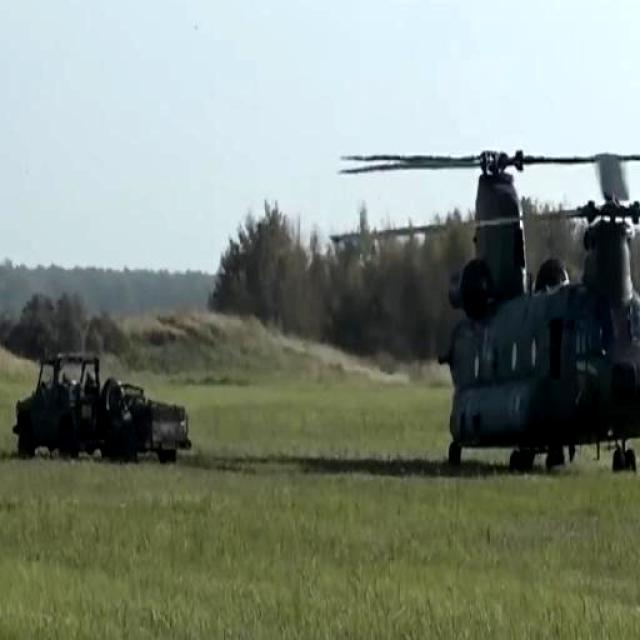drone: (399, 101, 640, 490)
